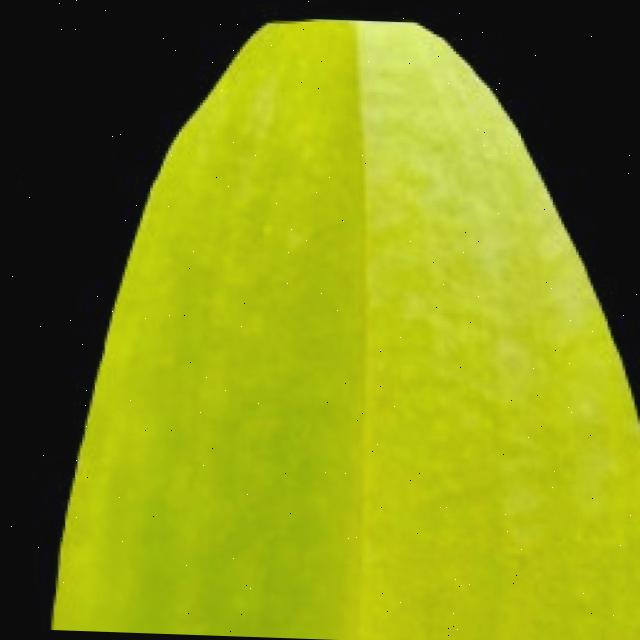mite: (11, 0, 87, 631), (13, 131, 25, 263), (13, 153, 30, 206), (13, 142, 19, 208), (13, 164, 16, 197)
spots: (16, 3, 640, 640)
